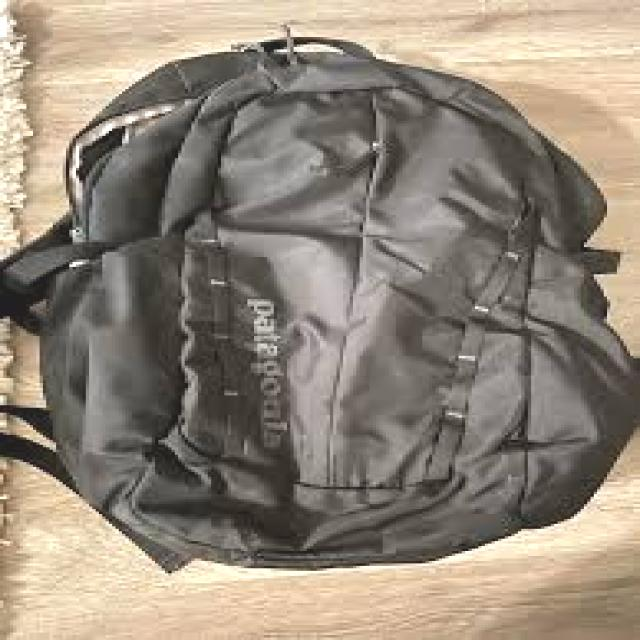backpack: (2, 28, 638, 572)
